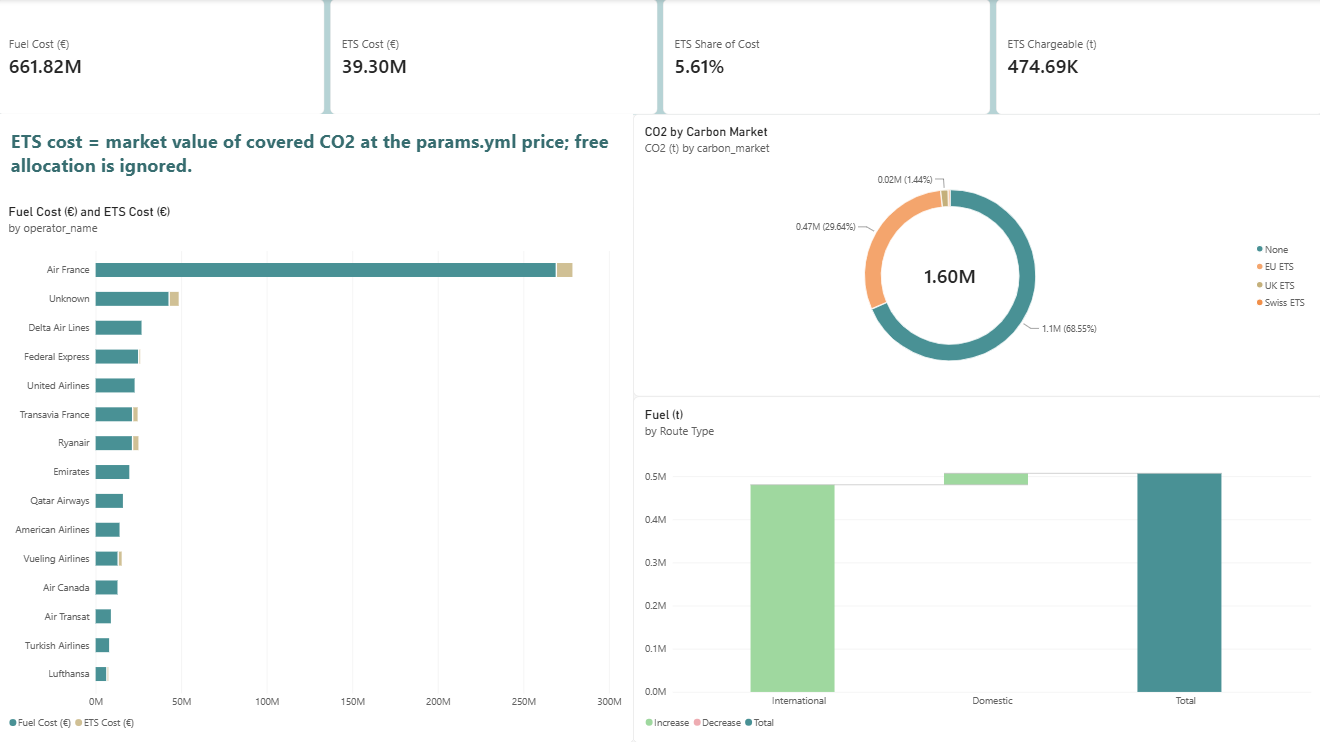

This screenshot's page, from the dashboard's own definition file:
{"tool":"powerbi","page":{"name":"Carbon Cost","canvas":[1920,1080],"ordinal":3},"visuals":[{"type":"cardVisual","fields":{"Data":["_Measures.Fuel Cost (€)","_Measures.ETS Cost (€)","_Measures.ETS Share of Cost","_Measures.ETS Chargeable (t)"]},"box":[0,0,1920.4,167.8],"z":1},{"type":"barChart","fields":{"Category":["v_flight_kpi.operator_name"],"Y":["_Measures.Fuel Cost (€)","_Measures.ETS Cost (€)"]},"box":[0,282.6,921.3,796.7],"z":2},{"type":"donutChart","fields":{"Category":["v_flight_kpi.carbon_market"],"Y":["_Measures.CO2 (t)"]},"box":[921.1,166.5,998.9,409],"z":3},{"type":"textbox","box":[0,166.9,921.3,133.5],"z":4},{"type":"textbox","box":[921,634,999,445],"z":5},{"type":"textbox","box":[0,166.5,921.1,133.9],"z":6},{"type":"waterfallChart","fields":{"Category":["v_flight_kpi.Route Type"],"Y":["_Measures.Fuel (t)"]},"box":[921.3,576.4,999.2,502.9],"z":7}]}

Visuals, with their boxes in screenshot pixels (x1, y1, x2, y2), scaled from the page's 1920x1080 canvas onto the 1320x742 screenshot:
cardVisual - _Measures.Fuel Cost (€) x _Measures.ETS Cost (€): BBox(0, 0, 1319, 115)
barChart - v_flight_kpi.operator_name x _Measures.Fuel Cost (€): BBox(0, 194, 633, 741)
donutChart - v_flight_kpi.carbon_market x _Measures.CO2 (t): BBox(633, 114, 1319, 395)
textbox: BBox(0, 115, 633, 206)
textbox: BBox(633, 436, 1319, 741)
textbox: BBox(0, 114, 633, 206)
waterfallChart - v_flight_kpi.Route Type x _Measures.Fuel (t): BBox(633, 396, 1319, 741)
